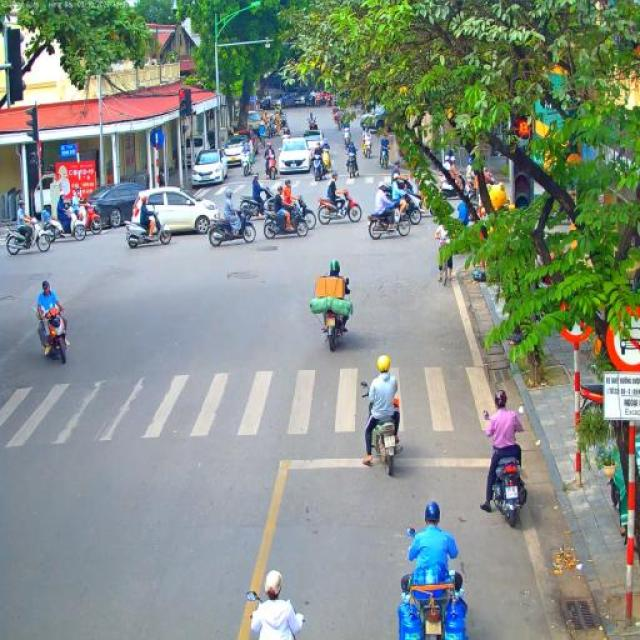car: (130, 185, 220, 235), (84, 181, 157, 228), (191, 148, 228, 187), (276, 136, 312, 174), (221, 136, 251, 168), (362, 102, 386, 130), (300, 129, 324, 155), (293, 87, 311, 107), (232, 130, 254, 146), (279, 92, 295, 108), (271, 92, 284, 108)
motorcycle: (401, 527, 467, 640), (483, 406, 528, 528), (361, 382, 404, 476), (245, 590, 306, 640), (36, 302, 70, 366), (207, 207, 257, 247), (262, 197, 308, 239), (125, 208, 171, 248), (4, 217, 51, 256), (367, 200, 412, 240), (38, 206, 86, 243), (317, 187, 363, 225), (320, 304, 350, 352), (608, 470, 627, 545), (234, 187, 274, 222), (389, 187, 423, 225), (400, 179, 432, 215), (72, 200, 103, 234), (437, 172, 463, 207), (292, 194, 317, 230), (580, 380, 605, 406), (452, 168, 468, 198), (310, 153, 326, 182), (463, 183, 479, 209), (345, 152, 360, 179), (264, 154, 278, 181), (240, 152, 254, 178), (386, 178, 399, 204), (321, 148, 332, 178), (361, 132, 373, 158), (380, 144, 391, 170), (342, 127, 352, 148), (257, 132, 268, 148), (276, 123, 288, 136), (269, 122, 276, 140), (308, 120, 318, 131), (337, 115, 343, 130), (333, 111, 339, 125)
